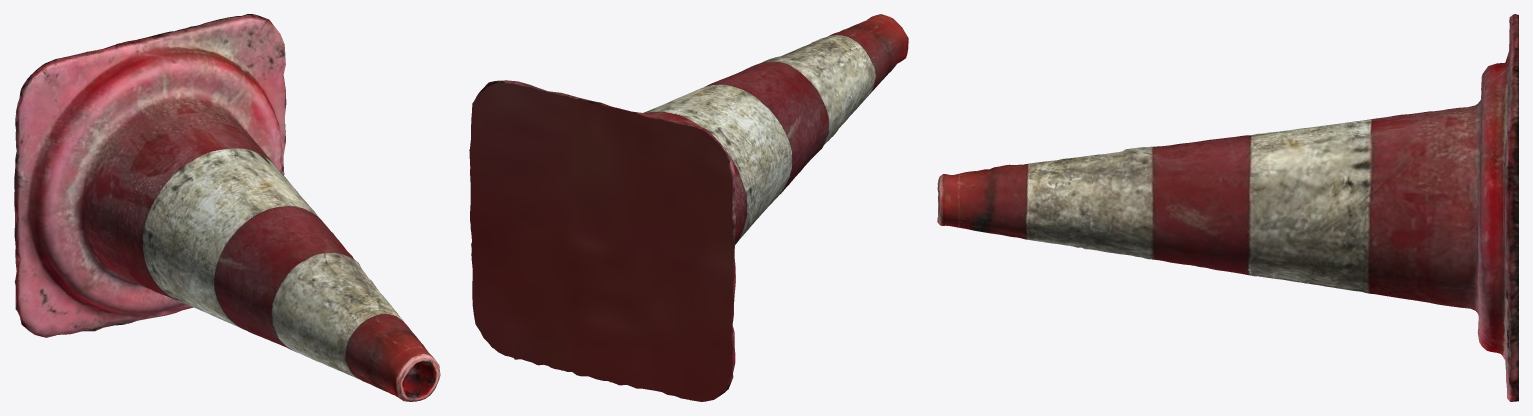
3 renders of one model, left to right at view 1: azimuth 30°, elevation 25°; view 2: azimuth 150°, elevation 25°; view 3: azimuth 270°, elevation 25°, orthographic. The views are drawn at different scales.
Visible parts, largest first — view 1: traffic_cone; view 2: traffic_cone; view 3: traffic_cone.
Boxes of the visible parts, x1,y1,x2,y2 form: traffic_cone: [14, 14, 440, 401]; traffic_cone: [469, 14, 908, 401]; traffic_cone: [937, 14, 1518, 401].
Bounding box in the file's own units: 0.2905 × 0.2907 × 0.5306.
1 material, 1 textured.
